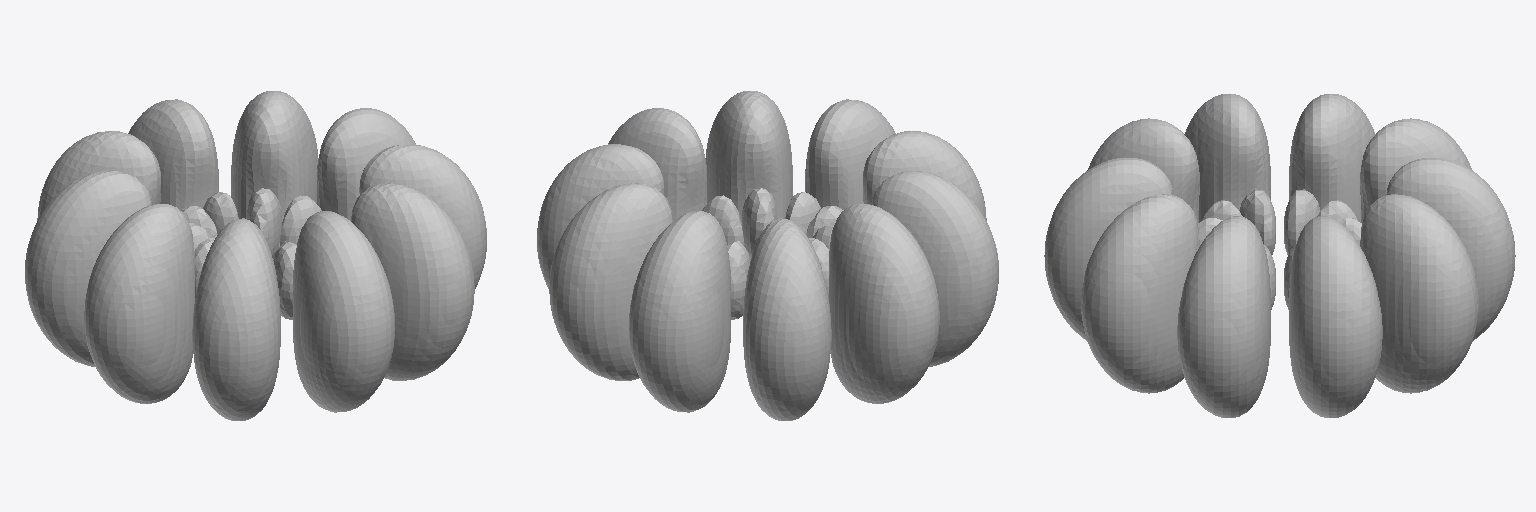
The model's file is orb_n=7_ l=5 _m=-5.obj.
3 views of the same model, side by side, from view 1: azimuth 30°, elevation 25°; view 2: azimuth 150°, elevation 25°; view 3: azimuth 270°, elevation 25° (orthographic).
Visible parts, largest first — view 1: orb_n=7__l=5__m=-5; view 2: orb_n=7__l=5__m=-5; view 3: orb_n=7__l=5__m=-5.
Boxes of the visible parts, <box> form: orb_n=7__l=5__m=-5: <box>25,91,486,420</box>; orb_n=7__l=5__m=-5: <box>537,91,998,420</box>; orb_n=7__l=5__m=-5: <box>1044,94,1515,417</box>.
Bounding box in the file's own units: 184 × 86.52 × 192.